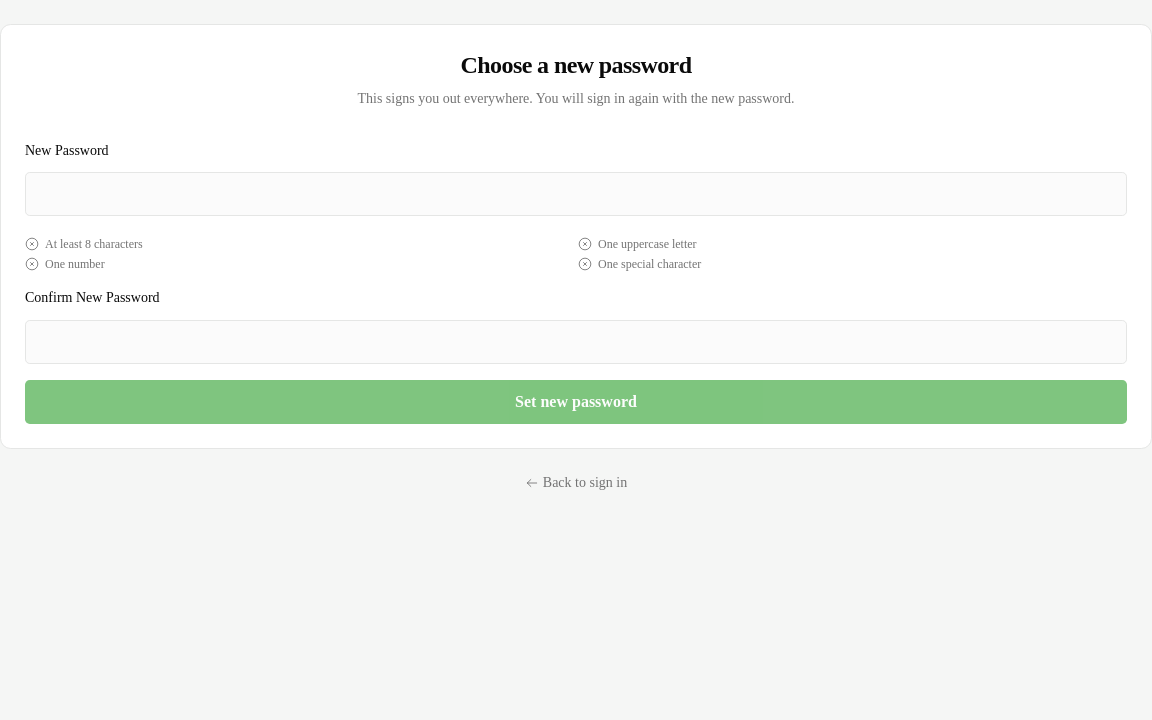
Test: reset password › offers a new link when the token is expired or used
The image size is (1152, 720).
Type "Blessing#2026" into the password field labelled "New Password".
click(576, 194); type("Blessing#2026")  # box [25,172,1127,216]
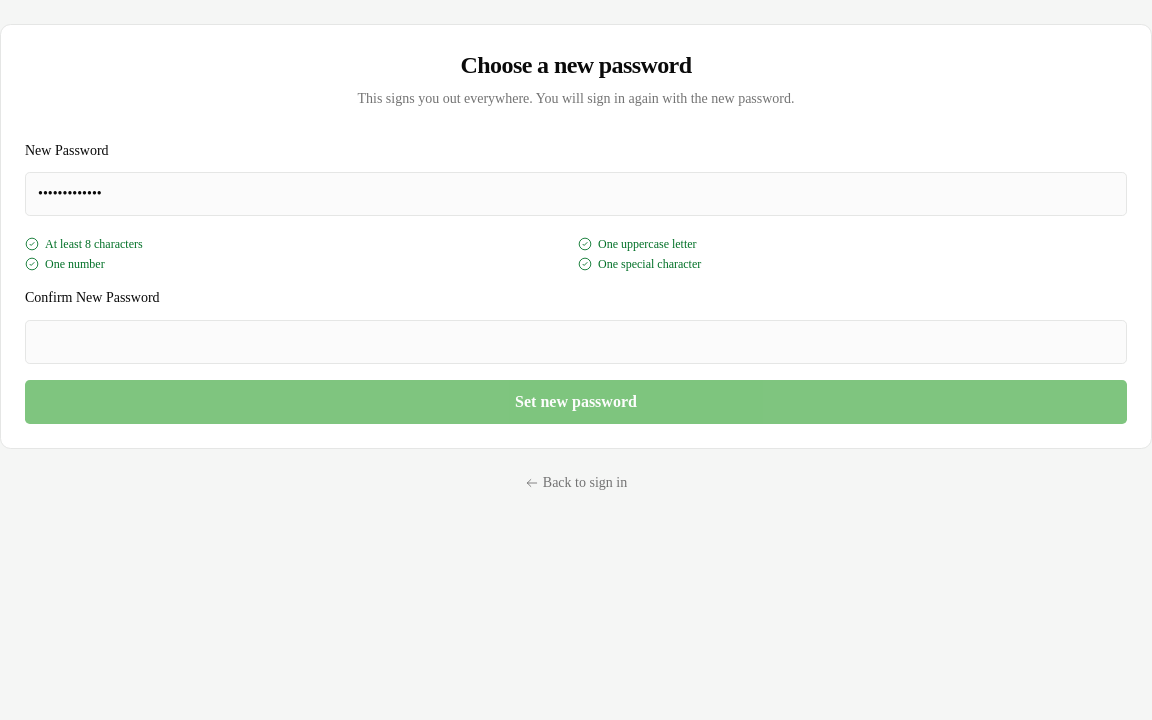
Type "Blessing#2026" into the password field labelled "Confirm New Password".
click(576, 342); type("Blessing#2026")  # box [25,320,1127,364]
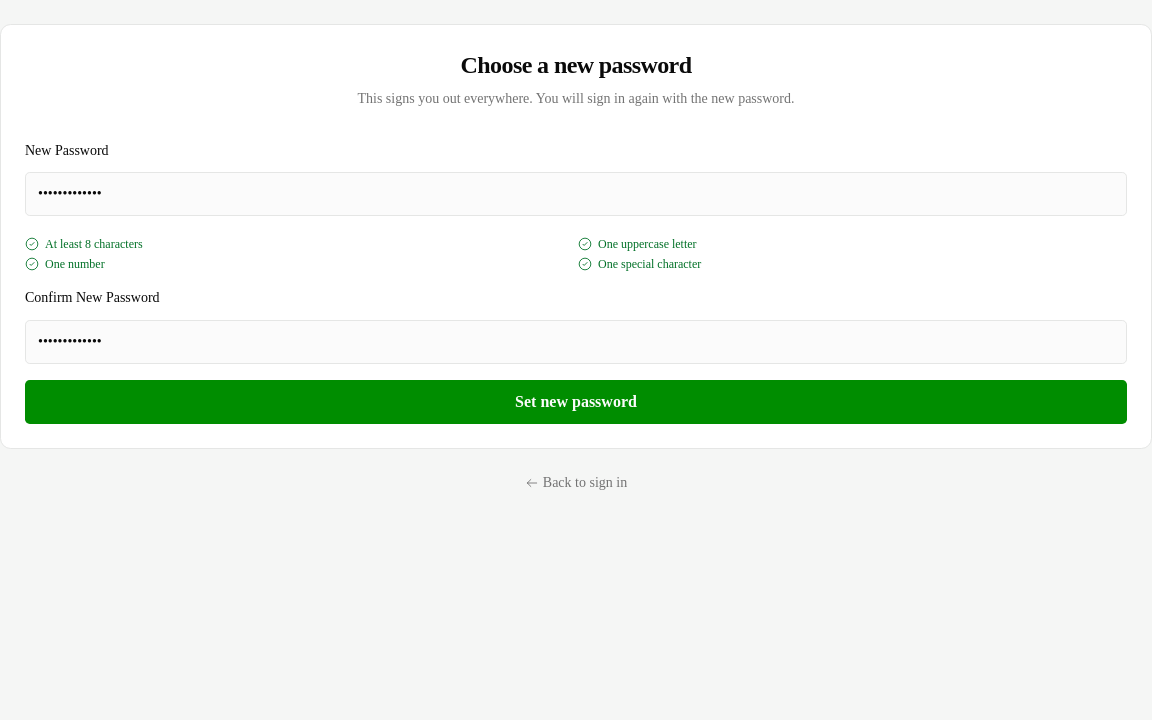
Click the button "Set new password".
click(576, 402)  # box [25,380,1127,424]
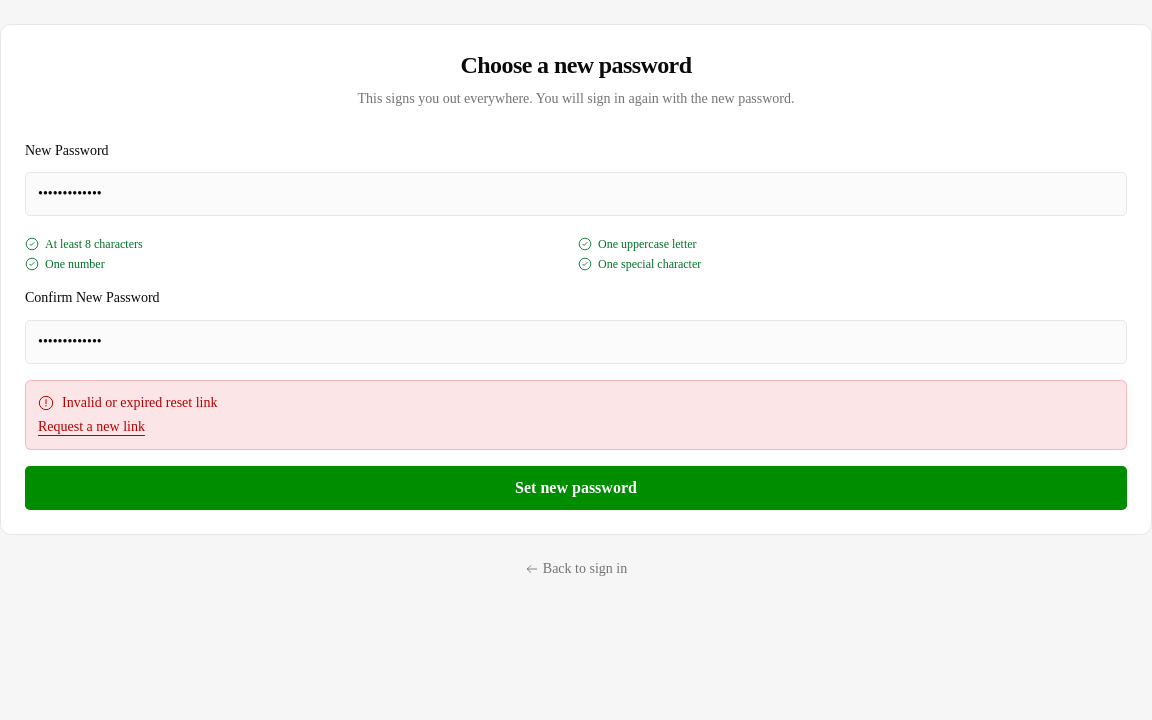
Expected: the message shows "Invalid or expired reset link", [62,394,218,410]
